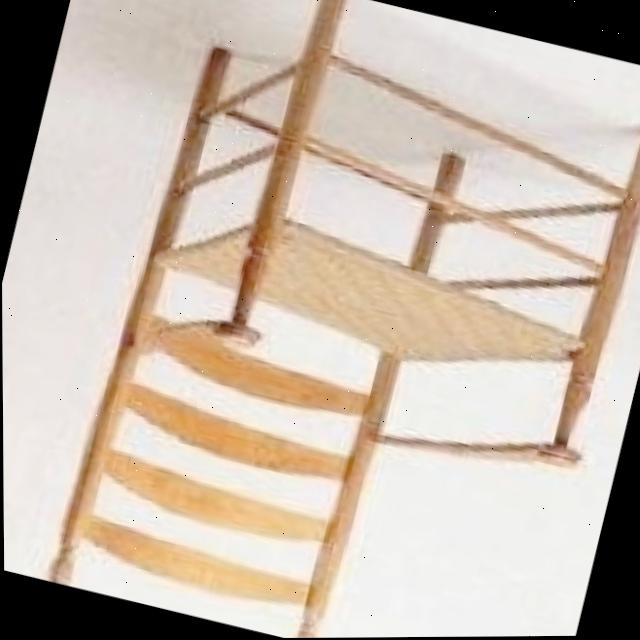sandalye: (34, 0, 640, 640)
